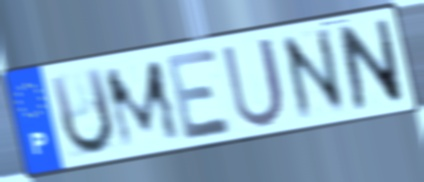E: (162, 44, 236, 144)
M: (100, 56, 185, 153)
N: (277, 24, 351, 125), (335, 16, 408, 114)
U: (218, 33, 288, 131), (46, 63, 117, 159)
